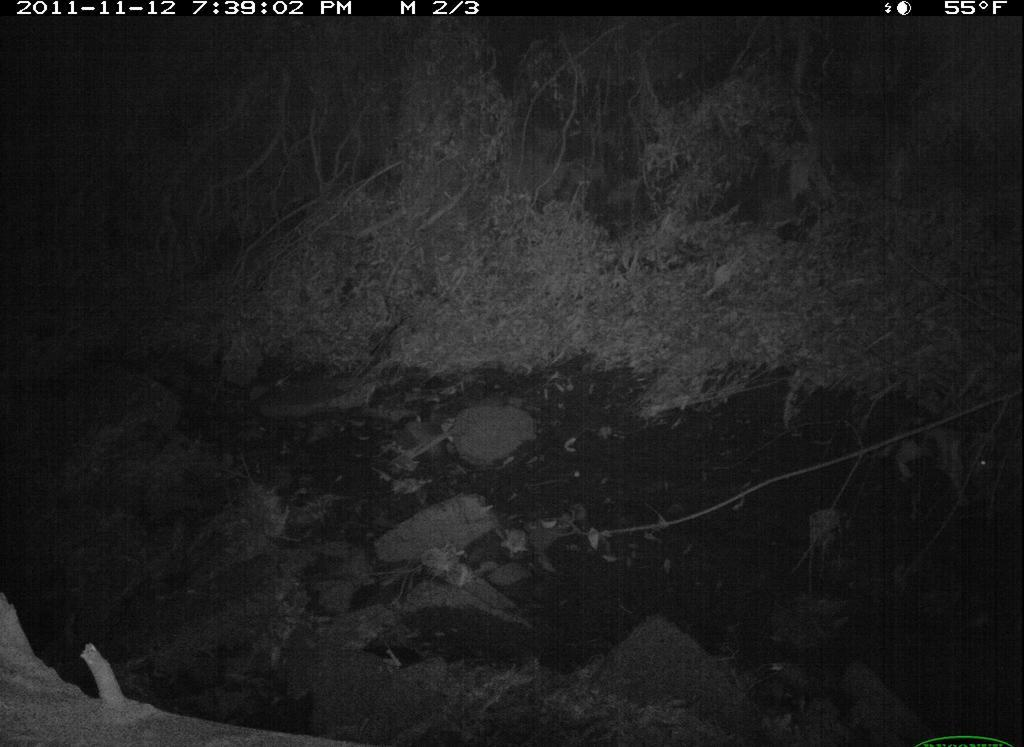cat: (859, 418, 1001, 511)
